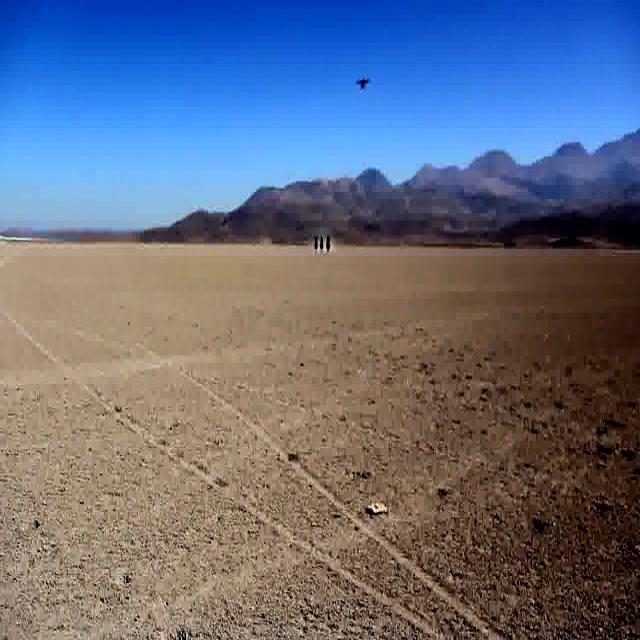drone: (353, 71, 371, 99)
